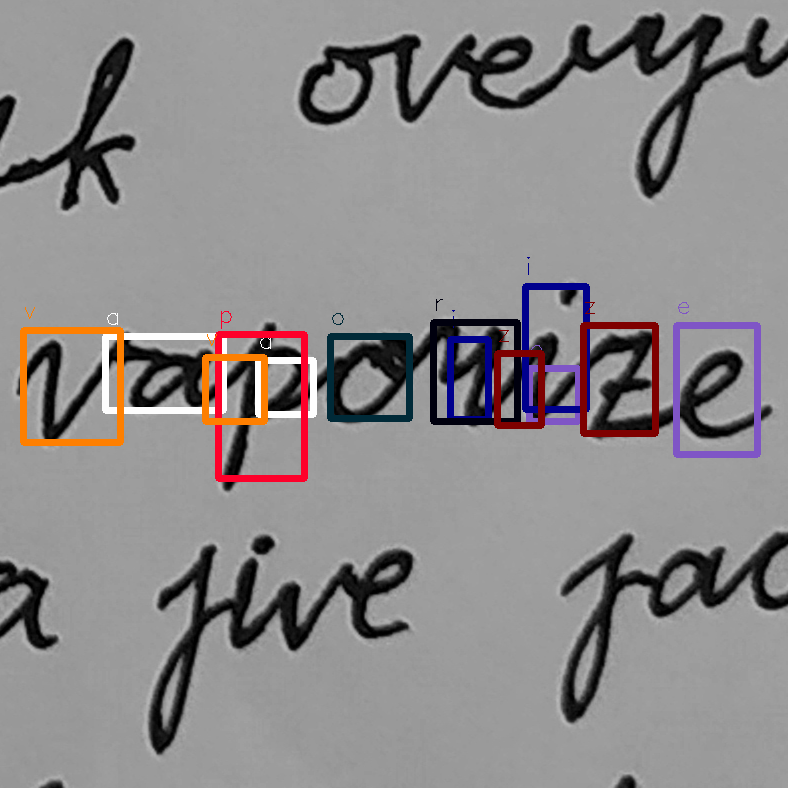a: (125, 336, 215, 419)
e: (671, 345, 775, 440)
i: (517, 280, 582, 422)
o: (320, 328, 417, 430)
p: (217, 319, 313, 495)
r: (421, 314, 508, 429)
v: (28, 327, 122, 448)
z: (585, 326, 657, 445)
